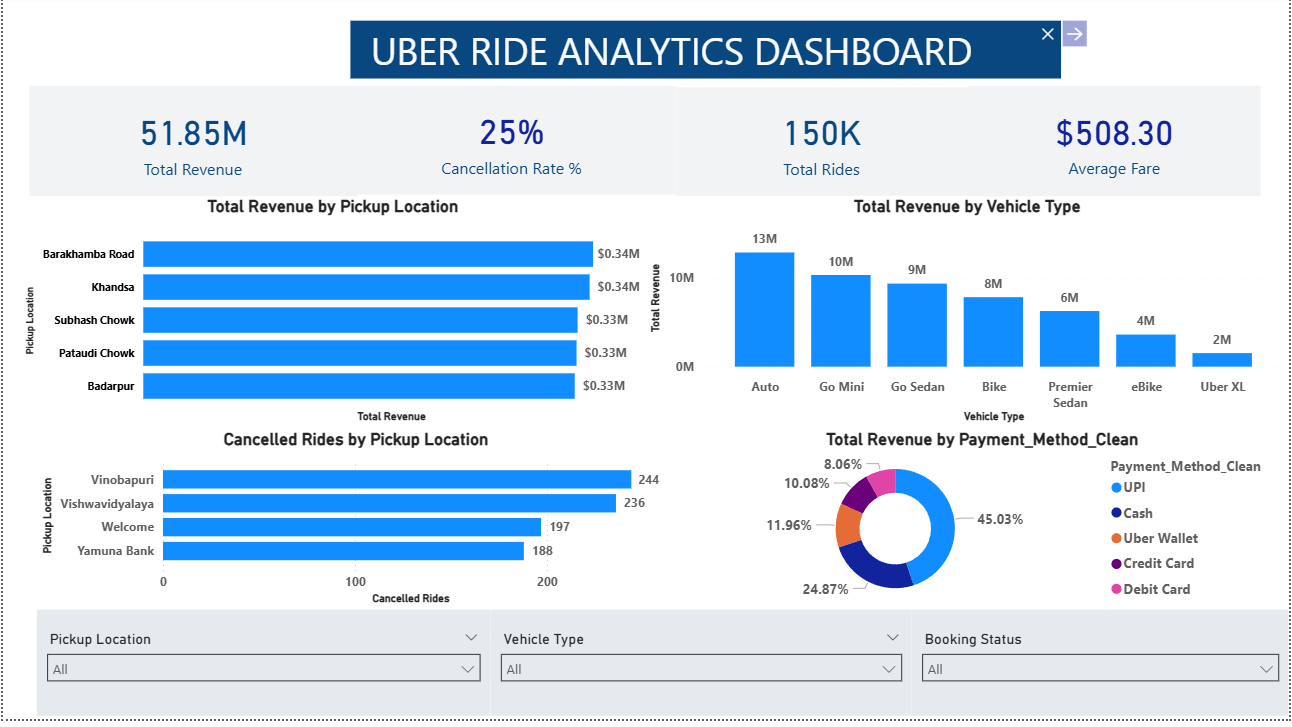

The page's visual inventory and layout, read from the dashboard file:
{"tool":"powerbi","page":{"name":"Page 1","canvas":[1280,720],"ordinal":0},"visuals":[{"type":"barChart","fields":{"Category":["ncr_ride_bookings.Pickup Location"],"Y":["ncr_ride_bookings.Total Revenue"]},"box":[17.3,199.1,621.8,230.8],"z":0},{"type":"columnChart","fields":{"Category":["ncr_ride_bookings.Vehicle Type"],"Y":["ncr_ride_bookings.Total Revenue"]},"box":[639.1,199.1,640.6,230.8],"z":1000},{"type":"barChart","fields":{"Category":["ncr_ride_bookings.Pickup Location"],"Y":["ncr_ride_bookings.Cancelled Rides"]},"box":[33.6,430.4,635.7,180.4],"z":2000},{"type":"donutChart","fields":{"Y":["ncr_ride_bookings.Total Revenue"],"Category":["ncr_ride_bookings.Payment_Method_Clean"]},"box":[669.3,430.4,610.8,180.4],"z":3000},{"type":"slicer","fields":{"Values":["ncr_ride_bookings.Pickup Location"]},"box":[33.6,610.8,451.6,105.7],"z":4000},{"type":"slicer","fields":{"Values":["ncr_ride_bookings.Vehicle Type"]},"box":[485.1,610.8,419.2,105.7],"z":5000},{"type":"slicer","fields":{"Values":["ncr_ride_bookings.Booking Status"]},"box":[904.4,610.8,375.7,105.7],"z":6000},{"type":"textSlicer","box":[331.8,14.4,760.3,75],"z":7000},{"type":"card","fields":{"Values":["ncr_ride_bookings.Total Revenue"]},"box":[17.1,89.6,325.7,98.1],"z":8000},{"type":"card","fields":{"Values":["ncr_ride_bookings.Total Rides"]},"box":[669.3,90.8,291.1,108.2],"z":9000},{"type":"card","fields":{"Values":["ncr_ride_bookings.Cancellation Rate %"]},"box":[342.8,89.6,325.7,108.1],"z":10000},{"type":"card","fields":{"Values":["ncr_ride_bookings.Average Fare"]},"box":[960,89.6,291.6,109.5],"z":11000},{"type":"card","fields":{"Values":["ncr_ride_bookings.Total Revenue"]},"box":[26,89.5,326.1,109.6],"z":12000}]}

Visuals, with their boxes in screenshot pixels (x1, y1, x2, y2), scaled from the page's 1280x720 canvas onto the 1292x727 screenshot:
barChart - ncr_ride_bookings.Pickup Location x ncr_ride_bookings.Total Revenue: l=17, t=201, r=645, b=434
columnChart - ncr_ride_bookings.Vehicle Type x ncr_ride_bookings.Total Revenue: l=645, t=201, r=1291, b=434
barChart - ncr_ride_bookings.Pickup Location x ncr_ride_bookings.Cancelled Rides: l=34, t=435, r=676, b=617
donutChart - ncr_ride_bookings.Total Revenue x ncr_ride_bookings.Payment_Method_Clean: l=676, t=435, r=1291, b=617
slicer - ncr_ride_bookings.Pickup Location: l=34, t=617, r=490, b=723
slicer - ncr_ride_bookings.Vehicle Type: l=490, t=617, r=913, b=723
slicer - ncr_ride_bookings.Booking Status: l=913, t=617, r=1291, b=723
textSlicer: l=335, t=15, r=1102, b=90
card - ncr_ride_bookings.Total Revenue: l=17, t=90, r=346, b=190
card - ncr_ride_bookings.Total Rides: l=676, t=92, r=969, b=201
card - ncr_ride_bookings.Cancellation Rate %: l=346, t=90, r=675, b=200
card - ncr_ride_bookings.Average Fare: l=969, t=90, r=1263, b=201
card - ncr_ride_bookings.Total Revenue: l=26, t=90, r=355, b=201
